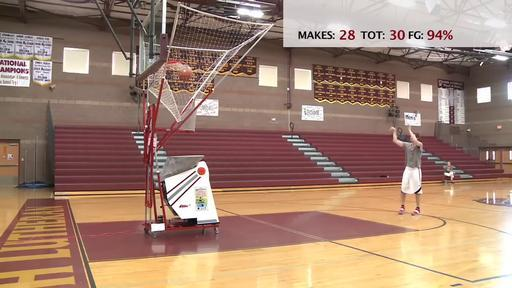ball: (178, 68, 192, 82)
human: (387, 124, 422, 216), (443, 161, 456, 183)
rim: (166, 60, 188, 86)
